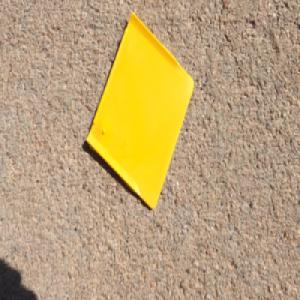PlasticPart: (86, 11, 196, 212)
